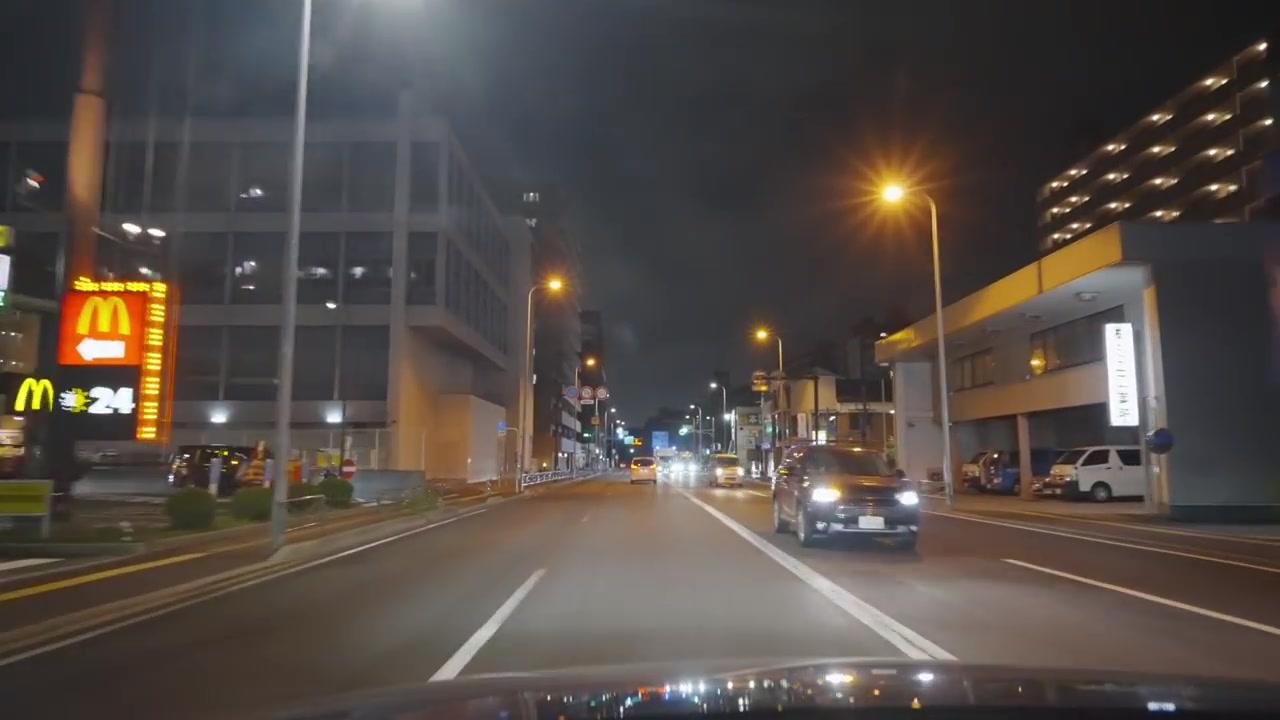bench: (1, 480, 54, 538)
car: (771, 443, 920, 551), (1037, 445, 1148, 502), (960, 448, 1060, 495), (698, 453, 742, 488), (629, 456, 659, 483)
traffic light: (578, 311, 604, 387)
